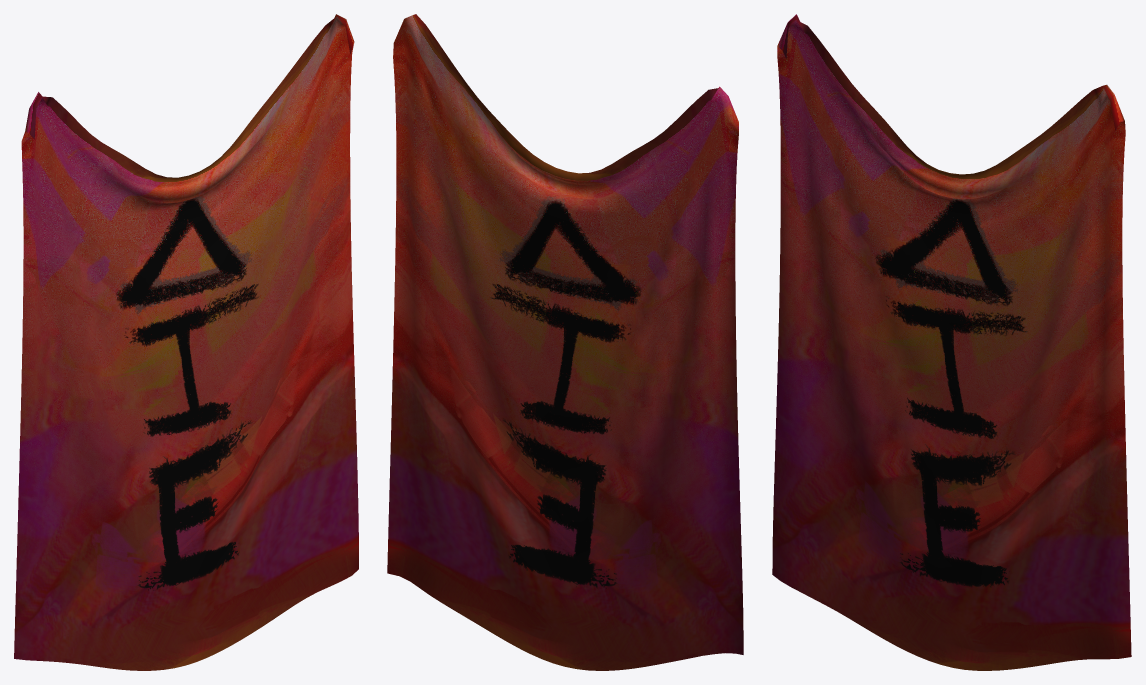
Rendered from die_banner.glb.
The picture shows the model from 3 angles, left to right: view 1: azimuth 30°, elevation 25°; view 2: azimuth 150°, elevation 25°; view 3: azimuth 330°, elevation 25°; orthographic projection.
Visible parts, largest first — view 1: Sketchfab Model.010; view 2: Sketchfab Model.010; view 3: Sketchfab Model.010.
Part boxes in pixels (left/top/right/bottom): Sketchfab Model.010: left=14, top=14, right=358, bottom=670; Sketchfab Model.010: left=387, top=14, right=743, bottom=670; Sketchfab Model.010: left=772, top=14, right=1131, bottom=670.
Size of the model in its own units: 1.48 by 2.47 by 0.0717.
1 material, 1 textured.
